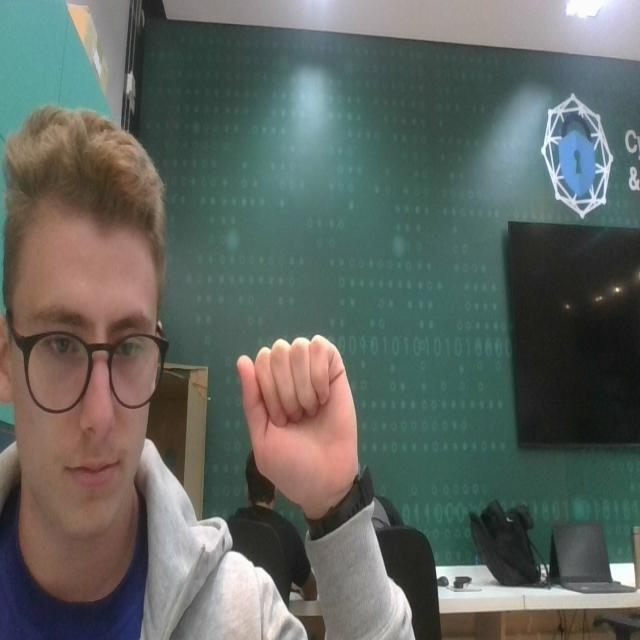A: (225, 326, 381, 534)
